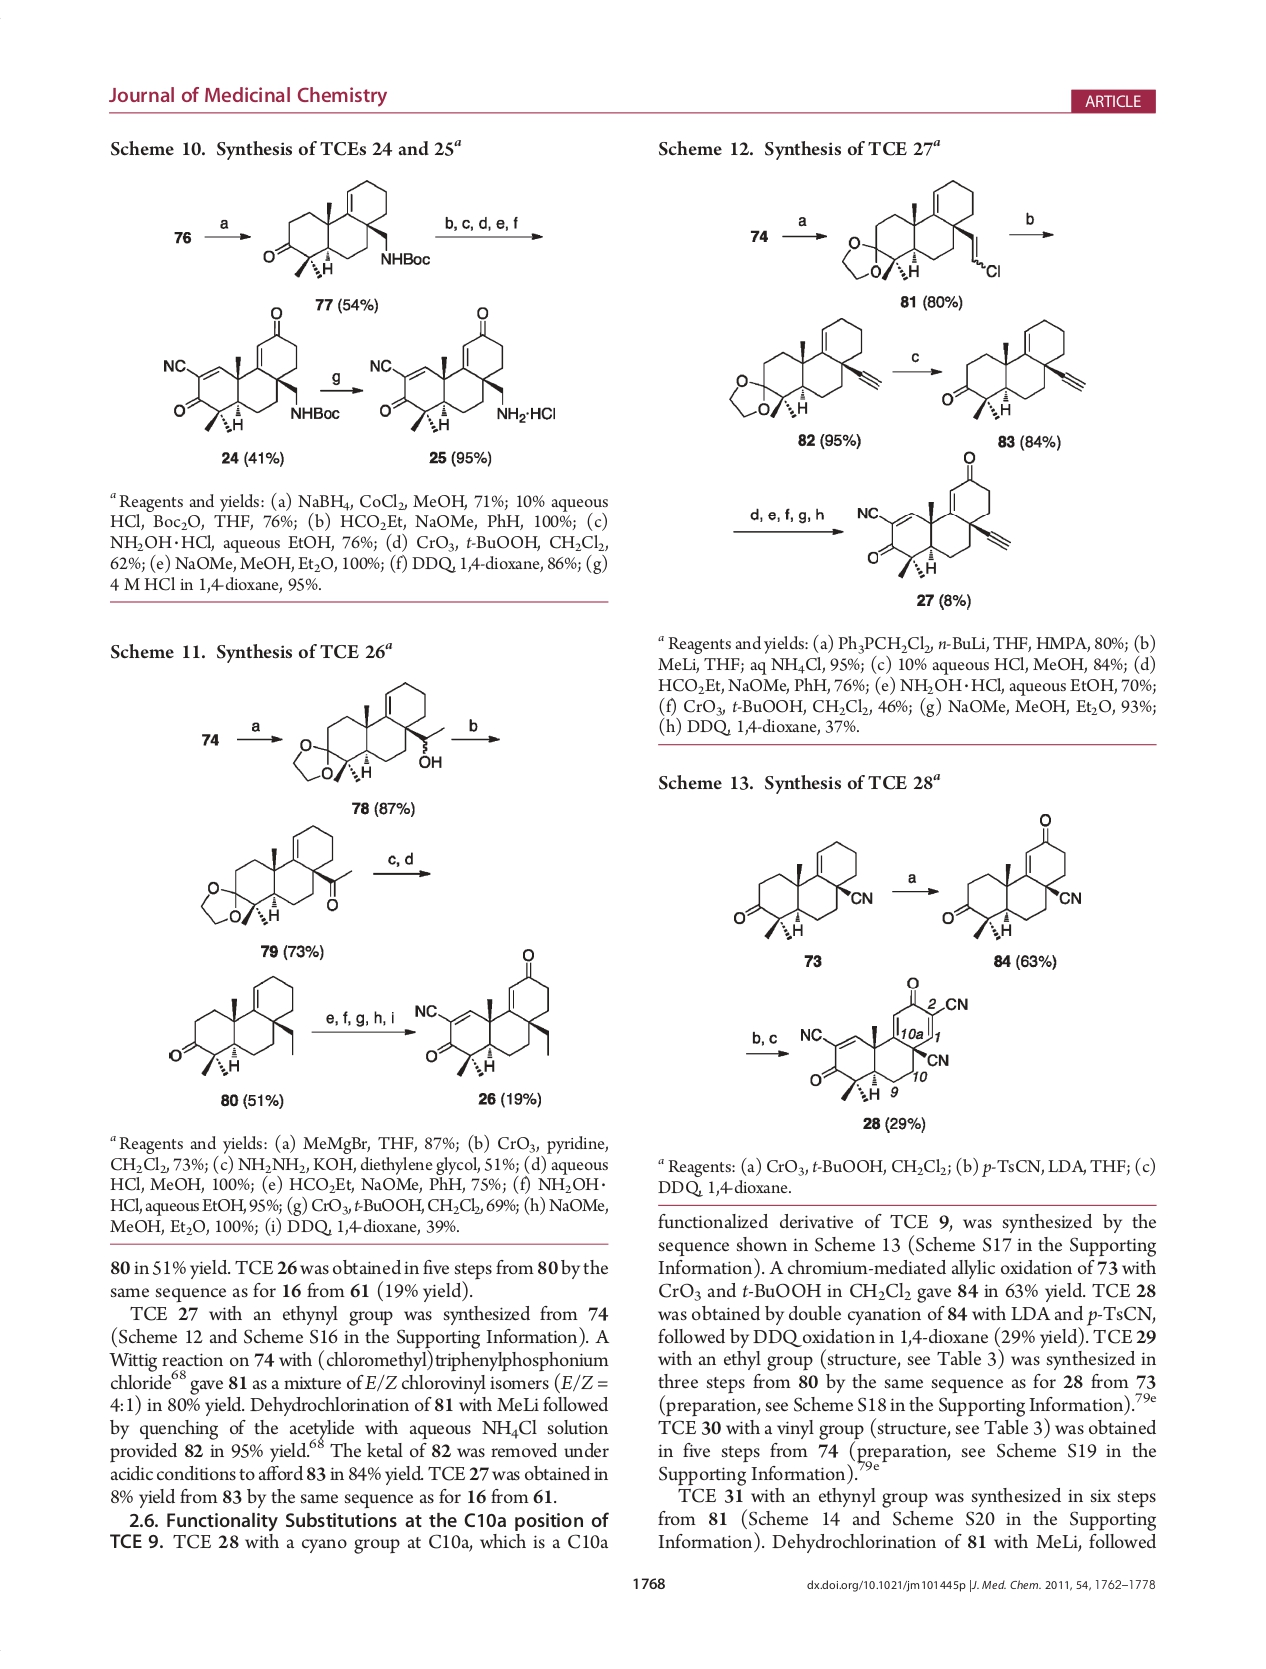exist_molecular: (367, 305, 556, 438), (160, 305, 340, 434), (798, 973, 969, 1104), (854, 449, 1015, 581), (938, 810, 1084, 942), (412, 946, 555, 1080), (839, 177, 1005, 286), (261, 176, 436, 278), (193, 821, 356, 926), (289, 678, 449, 785), (727, 314, 883, 422), (727, 836, 876, 946), (940, 317, 1086, 420), (168, 972, 298, 1079)
